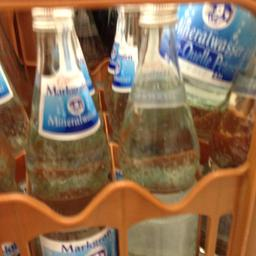water: (23, 6, 113, 255), (116, 2, 198, 255)
